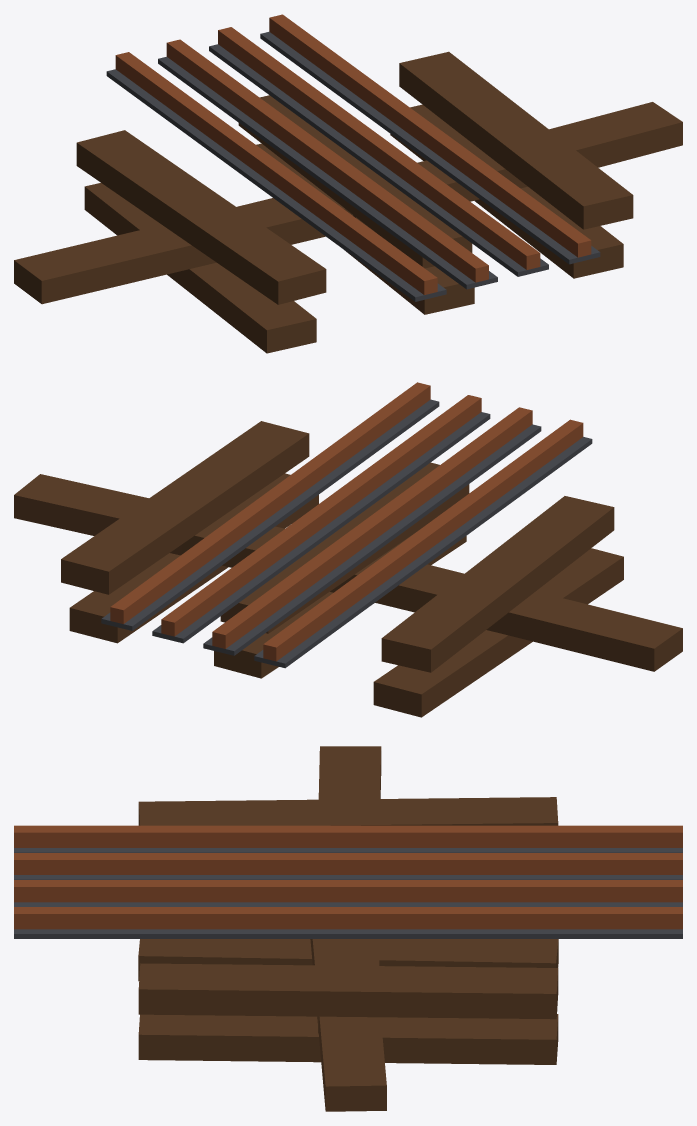
The model's file is mine_rail_stack.glb.
3 views of the same model, one above another, from view 1: azimuth 30°, elevation 25°; view 2: azimuth 150°, elevation 25°; view 3: azimuth 270°, elevation 25° (orthographic). The views are drawn at different scales.
Visible parts, largest first — view 1: mine_rail_stack; view 2: mine_rail_stack; view 3: mine_rail_stack.
Part boxes in pixels (x1,y1,x2,y2): mine_rail_stack: [14, 14, 682, 353]; mine_rail_stack: [14, 382, 682, 717]; mine_rail_stack: [14, 746, 682, 1111].
Size of what is drawn, in the model's own units: 2.89 by 0.39 by 2.4.
